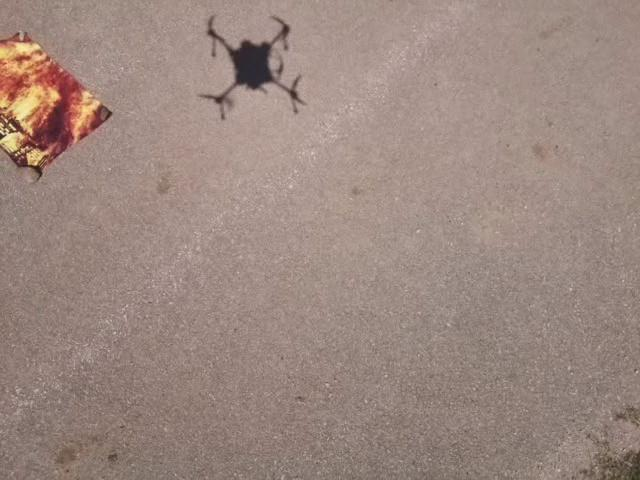fire-poster: (0, 28, 114, 184)
